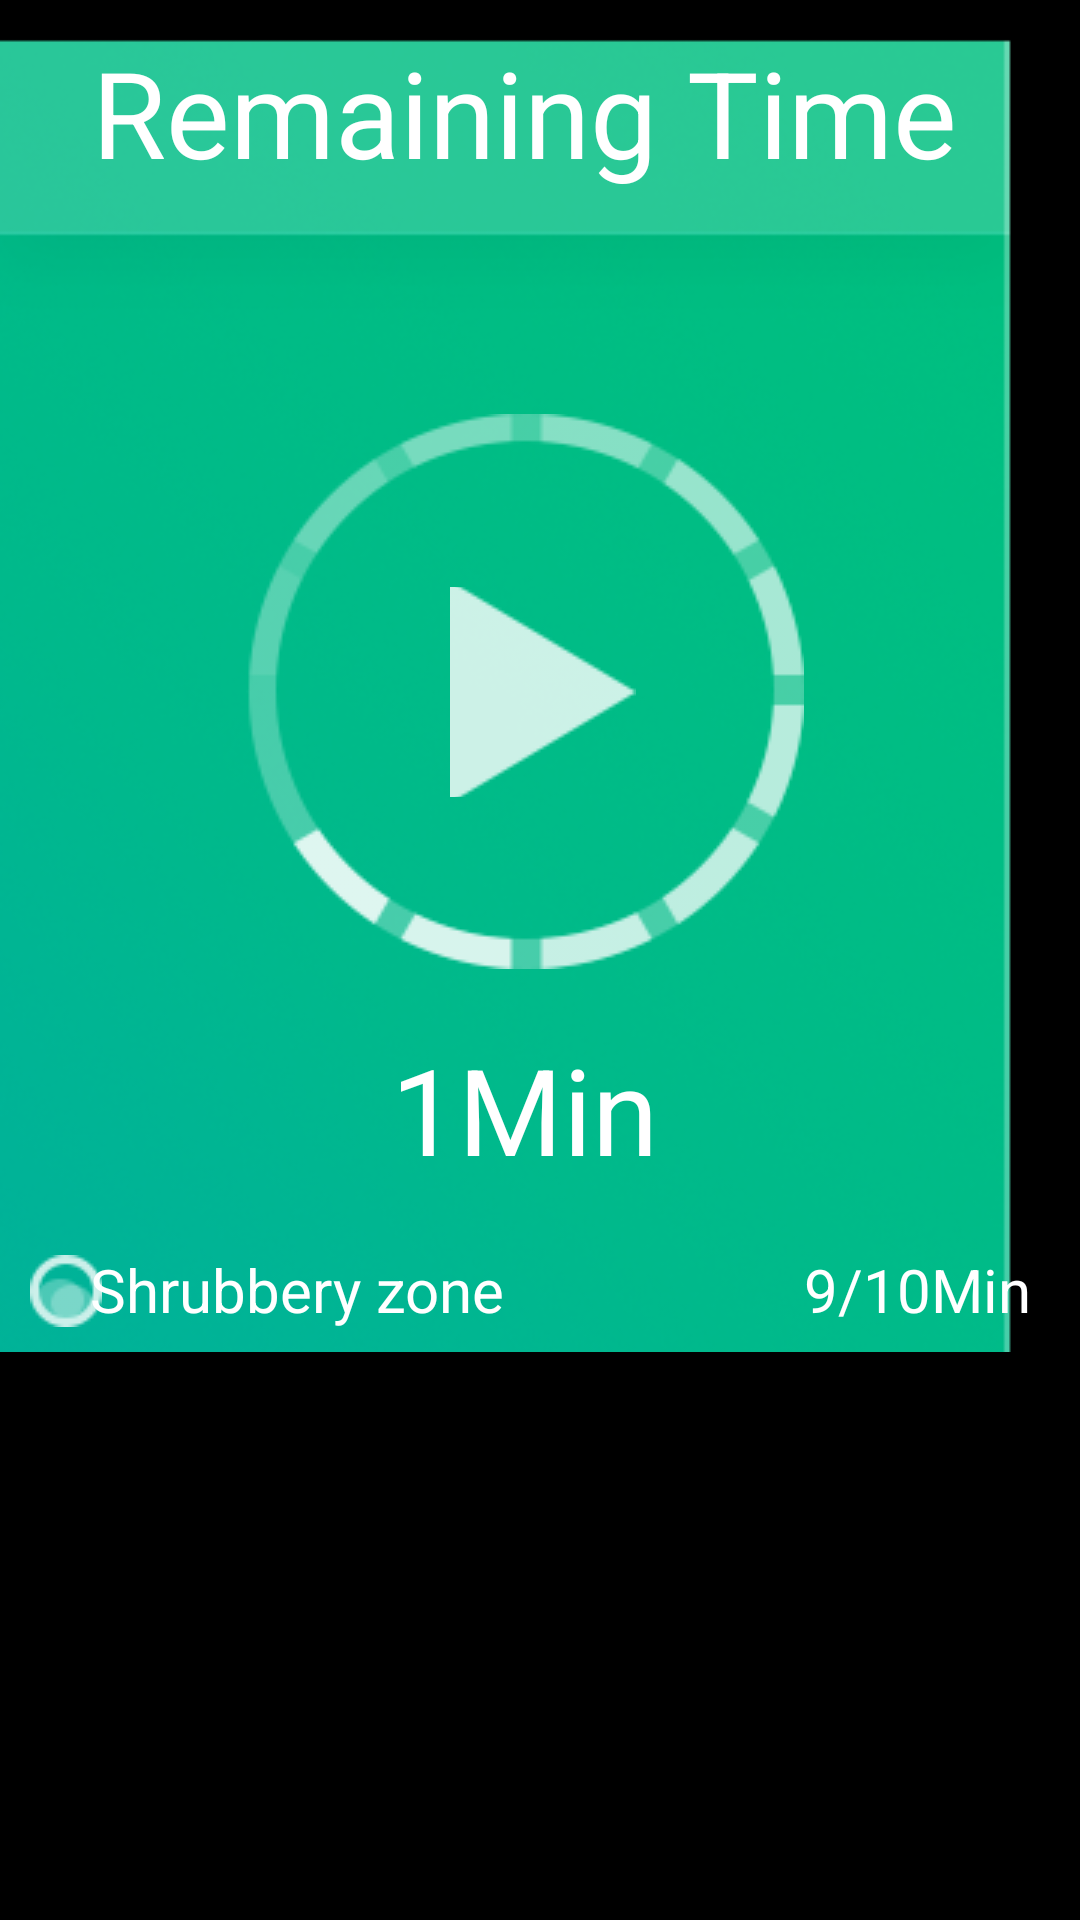

Icons on this 1080px×1920px Android screen, each with the point to tap as (x=x, y=y):
circel: (x=66, y=1291)
